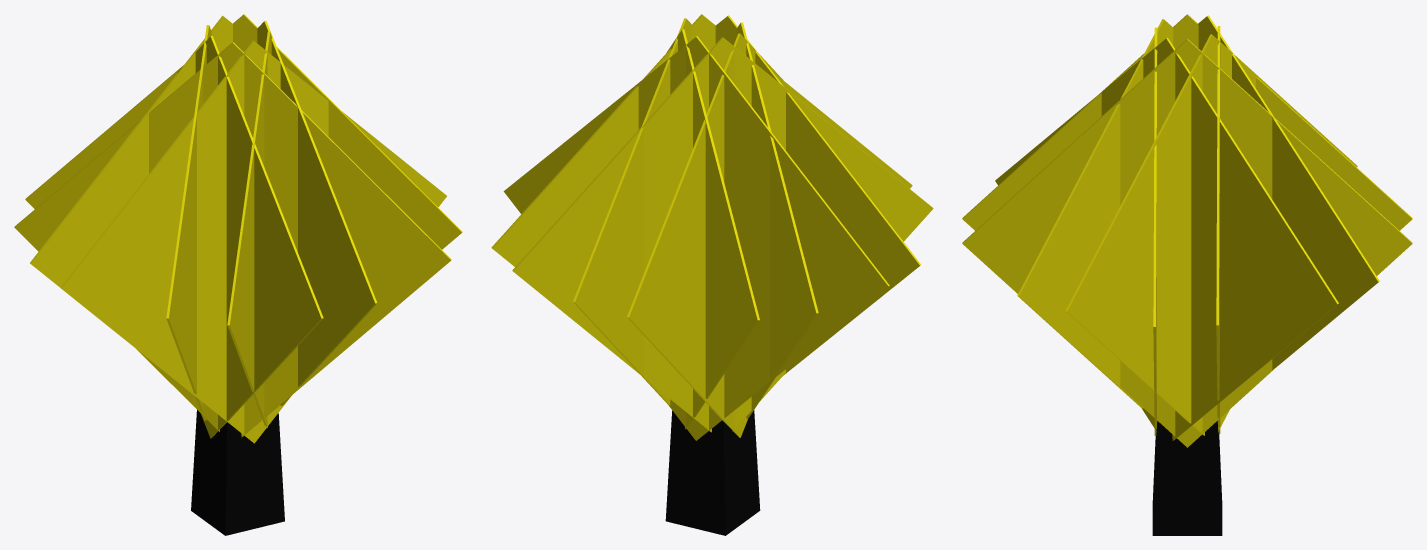
Rendered from люстеницин.fbx.
The picture shows the model from 3 angles, left to right: view 1: azimuth 30°, elevation 25°; view 2: azimuth 150°, elevation 25°; view 3: azimuth 270°, elevation 25°; orthographic projection.
Visible parts, largest first — view 1: Cube.004, Cube.007, Cube.002, Cube.003, Cube, Cube.006, Cube.001, Cube.008, Cube.005; view 2: Cube.001, Cube.008, Cube.002, Cube.003, Cube.006, Cube, Cube.004, Cube.005, Cube.007; view 3: Cube.005, Cube.003, Cube.006, Cube.007, Cube.008, Cube.002, Cube, Cube.001, Cube.004.
Part boxes in pixels (<box>): Cube.004: <box>60,40,446,443</box>; Cube.007: <box>14,42,451,437</box>; Cube.002: <box>177,35,323,438</box>; Cube.003: <box>257,20,377,405</box>; Cube: <box>191,410,284,535</box>; Cube.006: <box>25,14,462,249</box>; Cube.001: <box>30,15,413,287</box>; Cube.008: <box>166,25,211,421</box>; Cube.005: <box>227,31,271,427</box>; Cube.001: <box>503,36,889,440</box>; Cube.008: <box>512,37,933,432</box>; Cube.002: <box>627,33,783,437</box>; Cube.003: <box>573,18,692,405</box>; Cube.006: <box>666,29,759,429</box>; Cube: <box>665,410,760,535</box>; Cube.004: <box>715,15,920,375</box>; Cube.005: <box>491,14,912,266</box>; Cube.007: <box>737,22,818,418</box>; Cube.005: <box>995,37,1338,440</box>; Cube.003: <box>962,39,1412,447</box>; Cube.006: <box>1065,34,1357,435</box>; Cube.007: <box>1017,19,1173,408</box>; Cube.008: <box>1198,15,1379,369</box>; Cube.002: <box>962,14,1412,230</box>; Cube: <box>1152,421,1222,535</box>; Cube.001: <box>1216,26,1220,433</box>; Cube.004: <box>1153,27,1157,435</box>.
Size of the model in its own units: 234 by 284 by 234.
